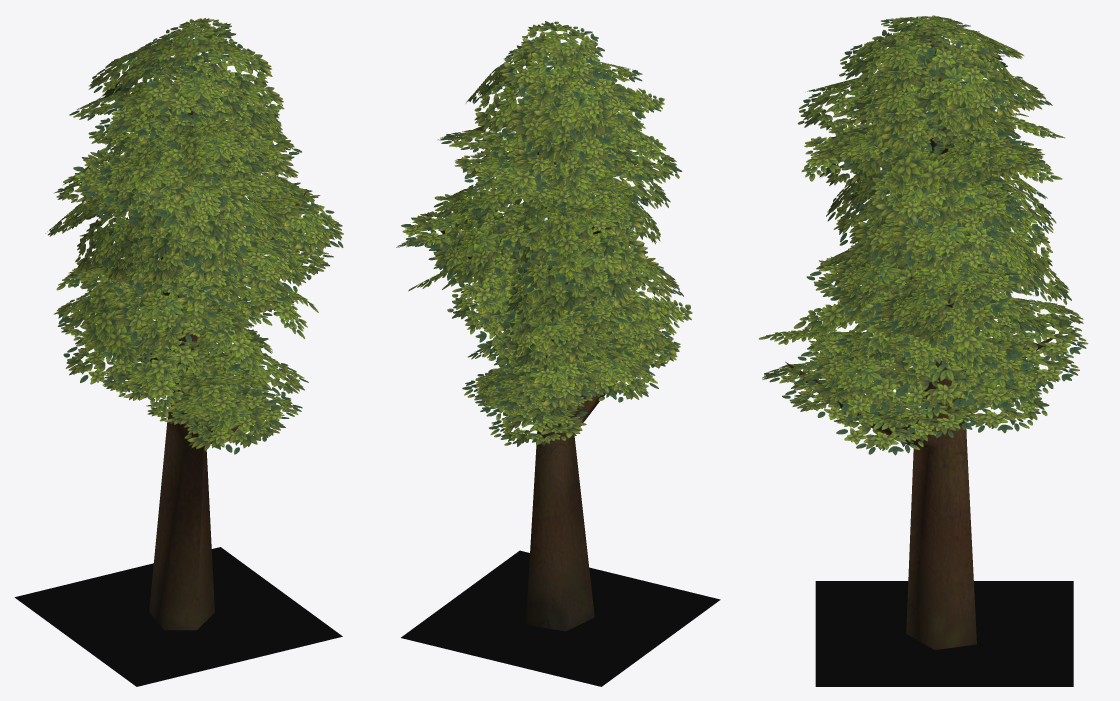
File: jj_tyshu05.FBX
3 views of the same model, side by side, from view 1: azimuth 30°, elevation 25°; view 2: azimuth 150°, elevation 25°; view 3: azimuth 270°, elevation 25° (orthographic). The views are drawn at different scales.
Parts seen in each view (by area): view 1: jj_tyshu05, shadow; view 2: jj_tyshu05, shadow; view 3: jj_tyshu05, shadow.
Boxes of the visible parts, bbox=[...] form: jj_tyshu05: bbox=[45, 18, 343, 630]; shadow: bbox=[14, 547, 342, 686]; jj_tyshu05: bbox=[396, 21, 692, 631]; shadow: bbox=[401, 550, 720, 686]; jj_tyshu05: bbox=[759, 15, 1088, 649]; shadow: bbox=[815, 581, 1073, 686].
Size of the model in its own units: 239 by 447 by 230.
2 materials, 2 textured.
